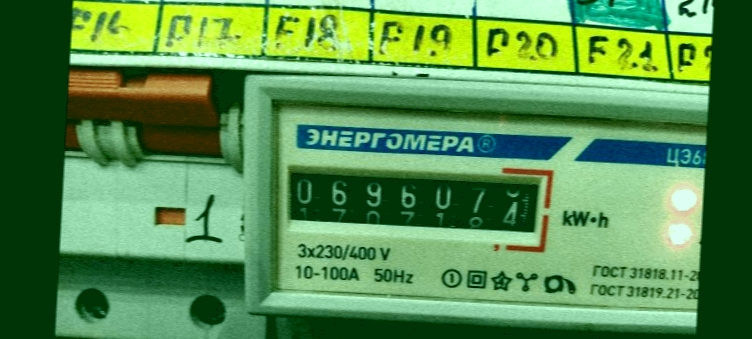0: (434, 177, 454, 208), (295, 173, 314, 202)
4: (502, 196, 519, 225)
6: (399, 178, 419, 208), (330, 174, 350, 203)
7: (470, 181, 488, 212)
9: (365, 177, 383, 206)
screen: (271, 145, 561, 249)
